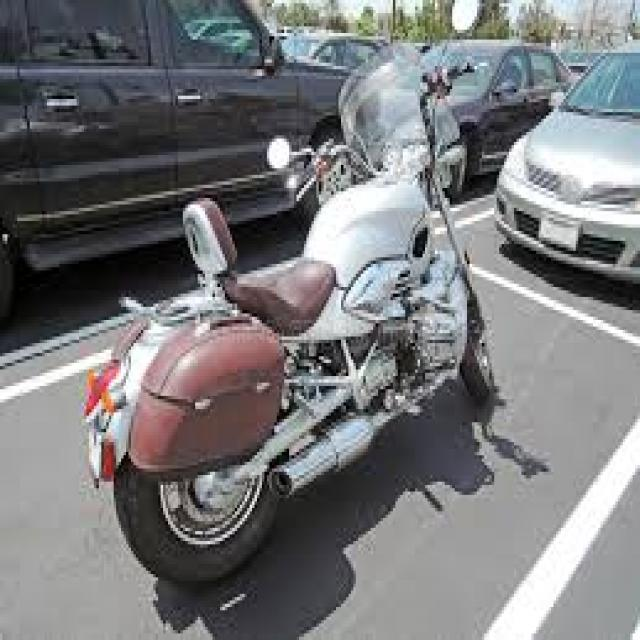Bike: (82, 0, 494, 587)
